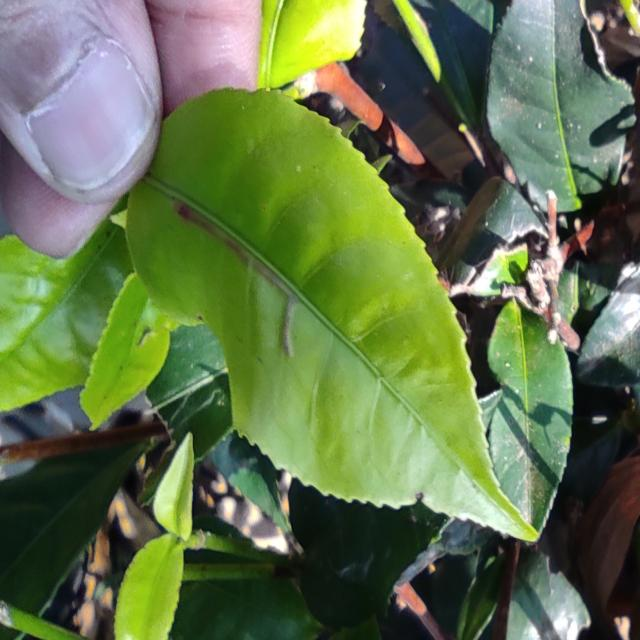Category C(4-7 days): (88, 38, 543, 546)
